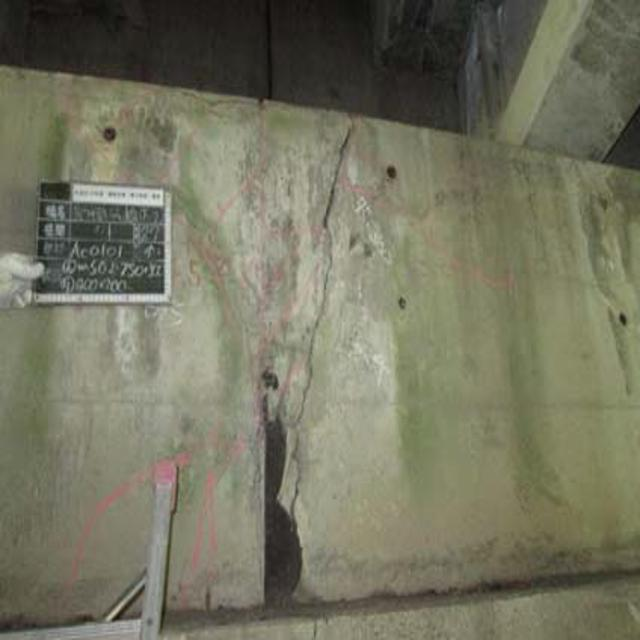crack: (274, 121, 374, 518)
